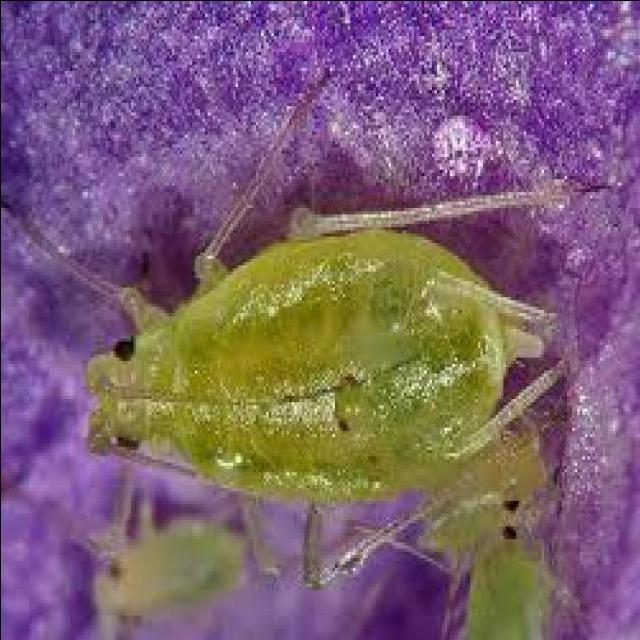aphid: (62, 157, 546, 535)
